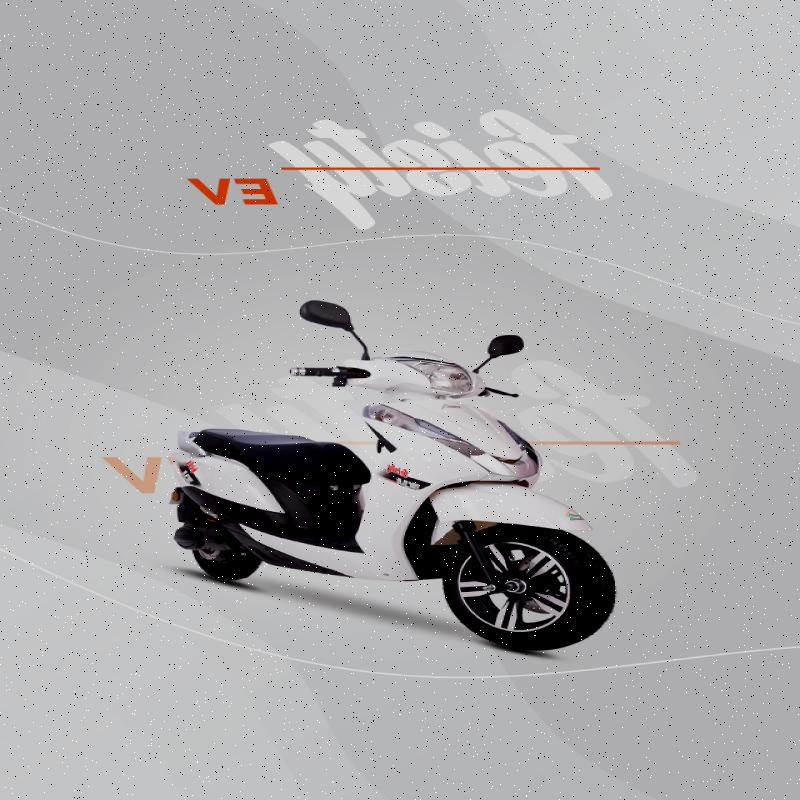bike: (138, 273, 637, 650)
